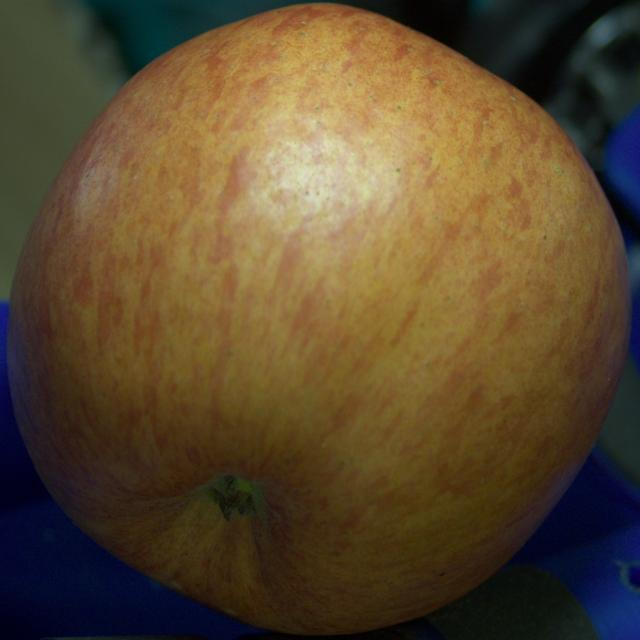apple: (7, 4, 631, 634)
